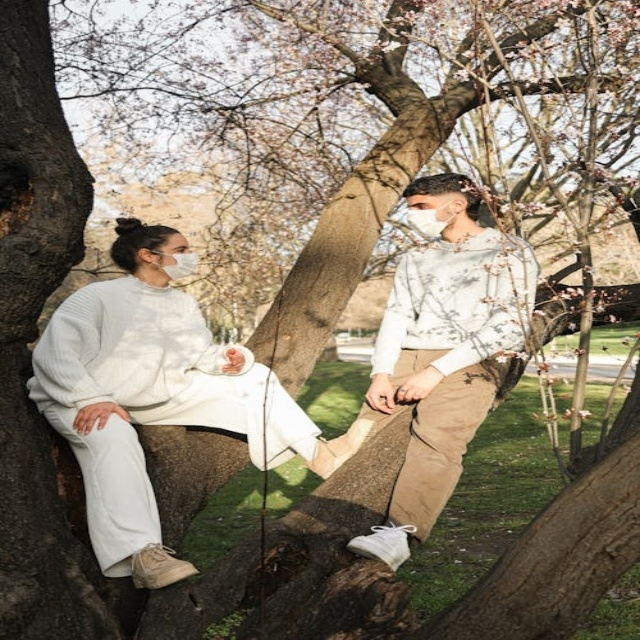Mascara: (405, 201, 458, 239), (148, 249, 200, 281)
Sin_gafas: (403, 200, 440, 211), (160, 242, 193, 254)
Sin_guantes: (396, 362, 449, 404), (73, 401, 128, 434), (358, 375, 397, 411), (215, 345, 251, 379)
